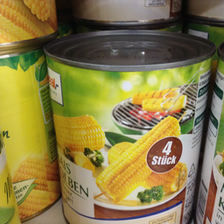corn: (42, 29, 217, 223)
